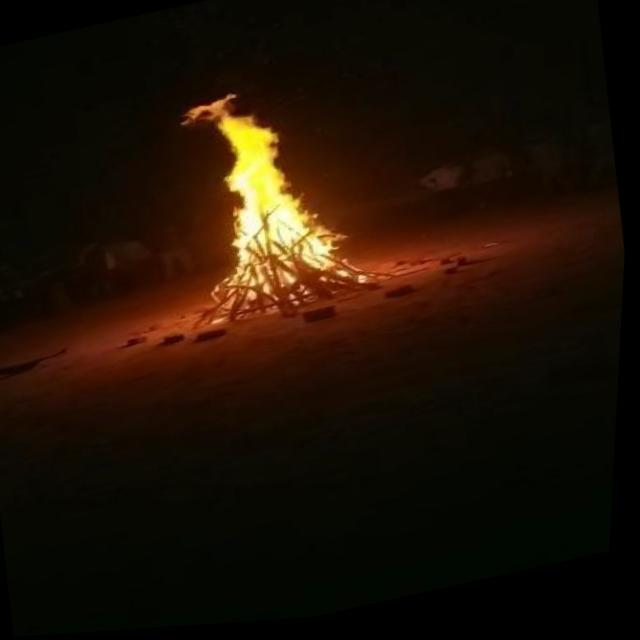fire: (155, 65, 379, 338)
